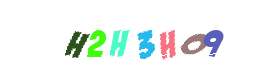0: (131, 0, 211, 80)
2: (56, 0, 136, 80)
3: (92, 0, 172, 80)
9: (173, 0, 253, 80)
H: (36, 0, 116, 80), (91, 0, 171, 80), (128, 0, 208, 80)
